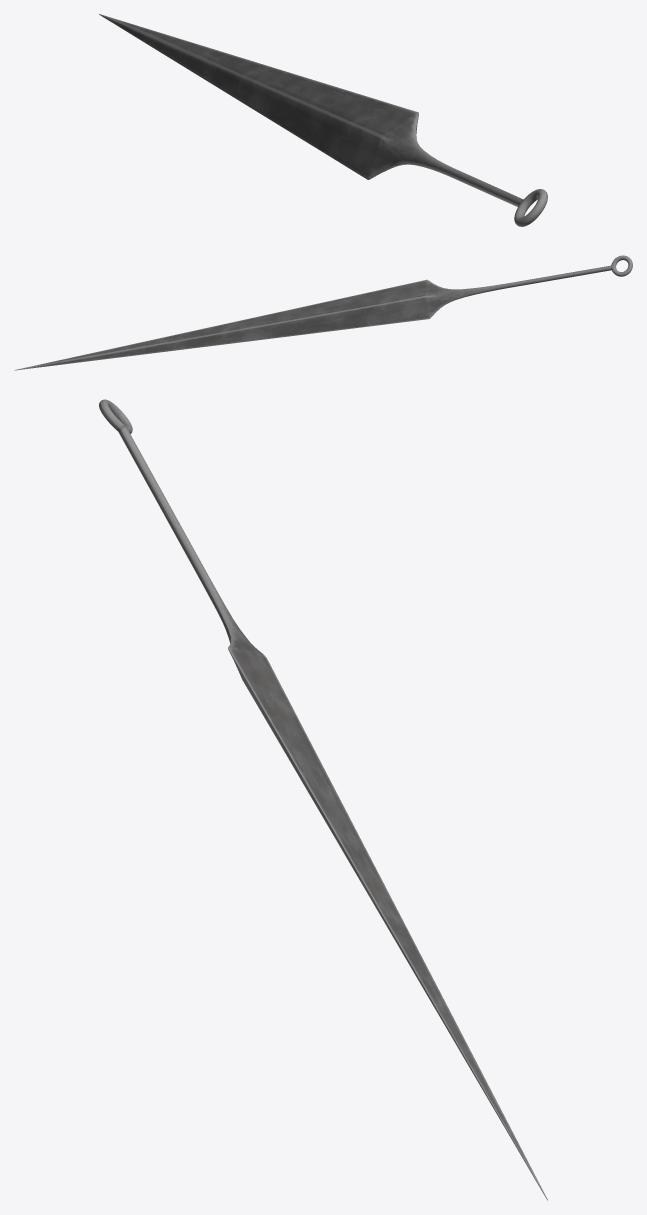
Rendered from needle.glb.
The picture shows the model from 3 angles, top to bottom: view 1: azimuth 90°, elevation 25°; view 2: azimuth 150°, elevation 25°; view 3: azimuth 270°, elevation 25°; orthographic projection. The views are drawn at different scales.
Visible parts, largest first — view 1: Needle; view 2: Needle; view 3: Needle.
Part boxes in pixels (left/top/right/bottom): Needle: left=99, top=14, right=547, bottom=226; Needle: left=14, top=255, right=632, bottom=370; Needle: left=99, top=399, right=547, bottom=1200.
Size of the model in its own units: 2 by 0.5831 by 0.7636.
1 material, 1 textured.
